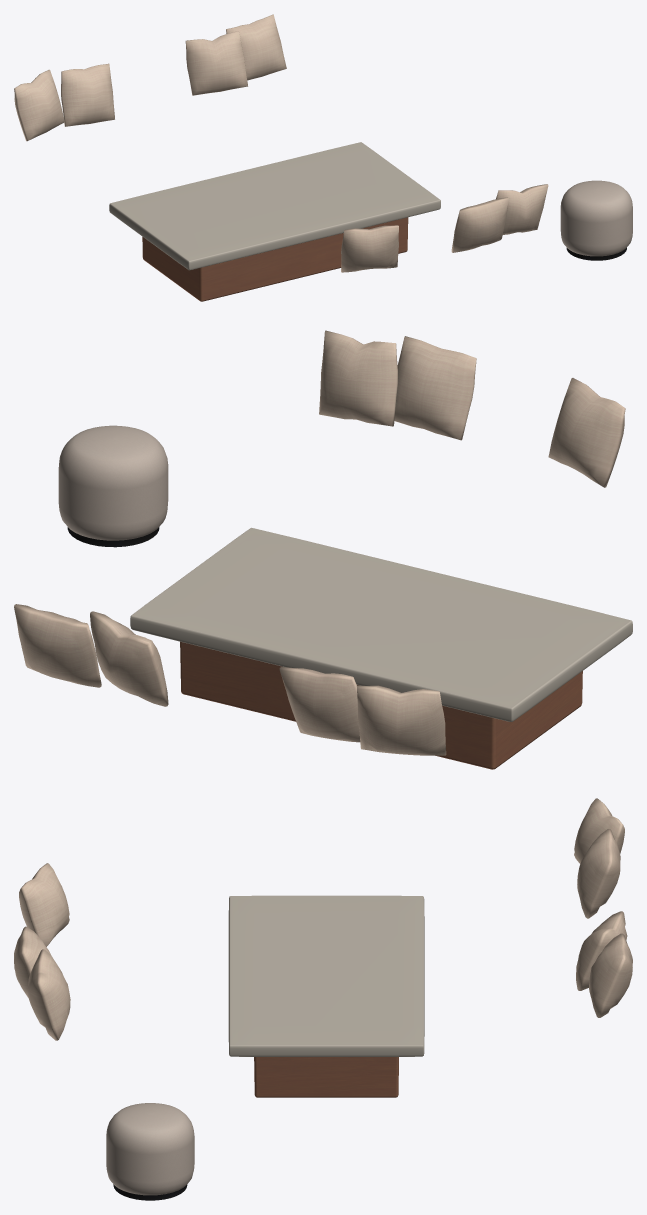
Rendered from CommunityRoomA_SofaA.fbx.
The picture shows the model from 3 angles, top to bottom: view 1: azimuth 30°, elevation 25°; view 2: azimuth 150°, elevation 25°; view 3: azimuth 270°, elevation 25°; orthographic projection. The views are drawn at different scales.
Visible parts, largest first — view 1: CommunityRoomA_SofaA; view 2: CommunityRoomA_SofaA; view 3: CommunityRoomA_SofaA.
Part boxes in pixels (left/top/right/bottom): CommunityRoomA_SofaA: left=14, top=14, right=632, bottom=301; CommunityRoomA_SofaA: left=14, top=330, right=632, bottom=769; CommunityRoomA_SofaA: left=14, top=798, right=632, bottom=1200.
Size of the model in its own units: 340 by 93.83 by 347.
